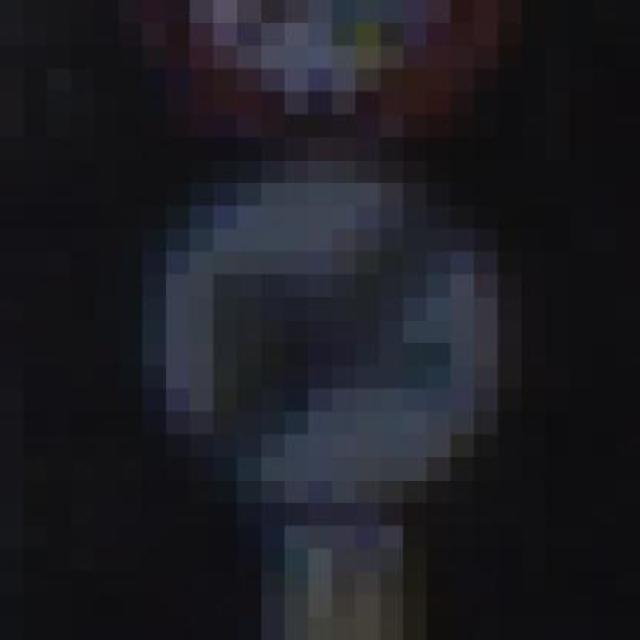Overtaking by trucks is prohibited: (95, 114, 616, 503)
